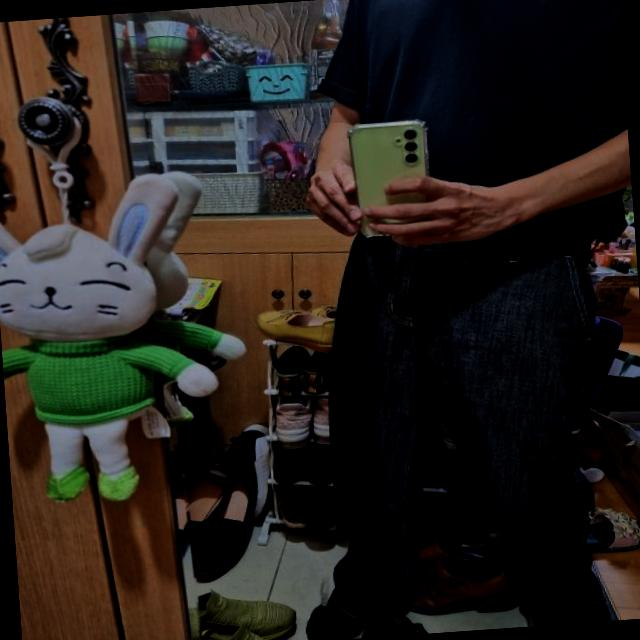denimpants: (312, 207, 610, 639)
shortsleeve: (315, 0, 635, 263)
